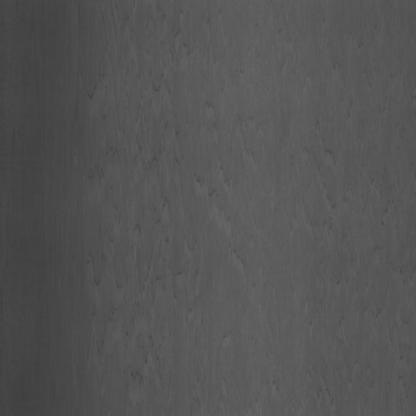silk_spot: (138, 71, 252, 314), (66, 39, 132, 352)
